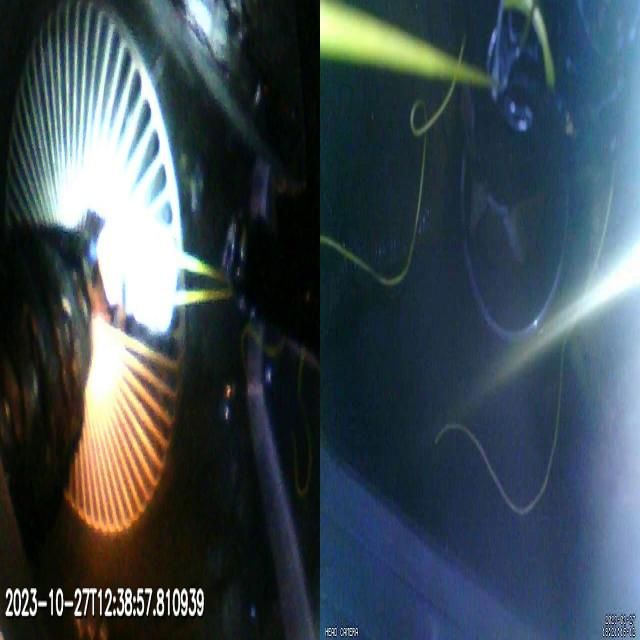head: (100, 205, 180, 336)
